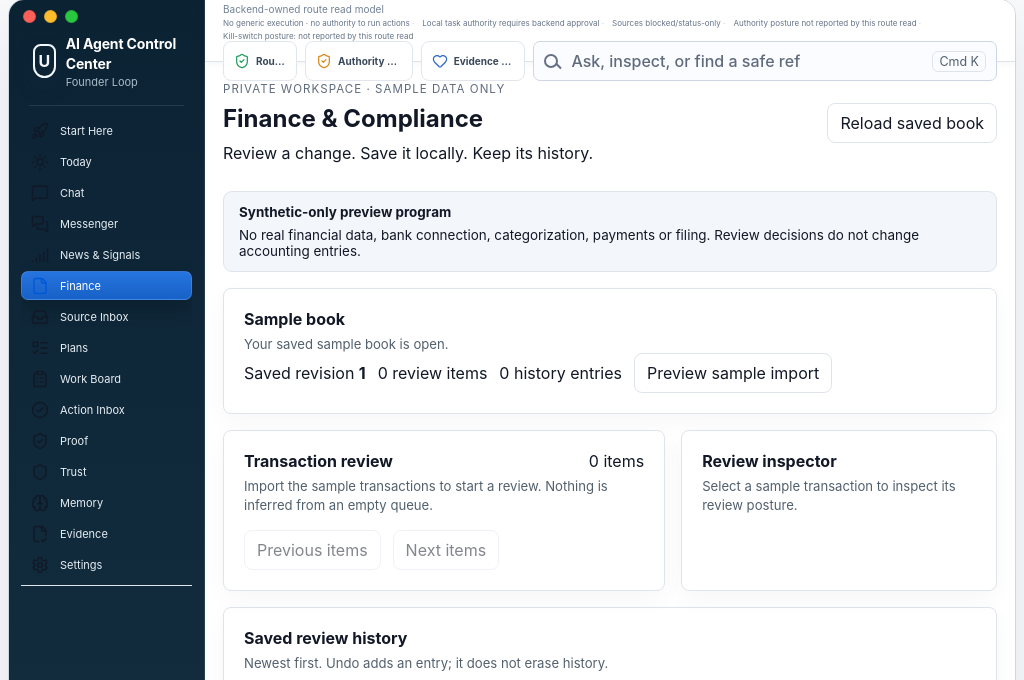
Finance workspace › allows an expired unsubmitted import_commit preview to be closed and prepared again
This screenshot has width=1024, height=680.
Click the button "Preview sample import".
click(733, 373)  # box [634,353,832,393]
(page scrolled)
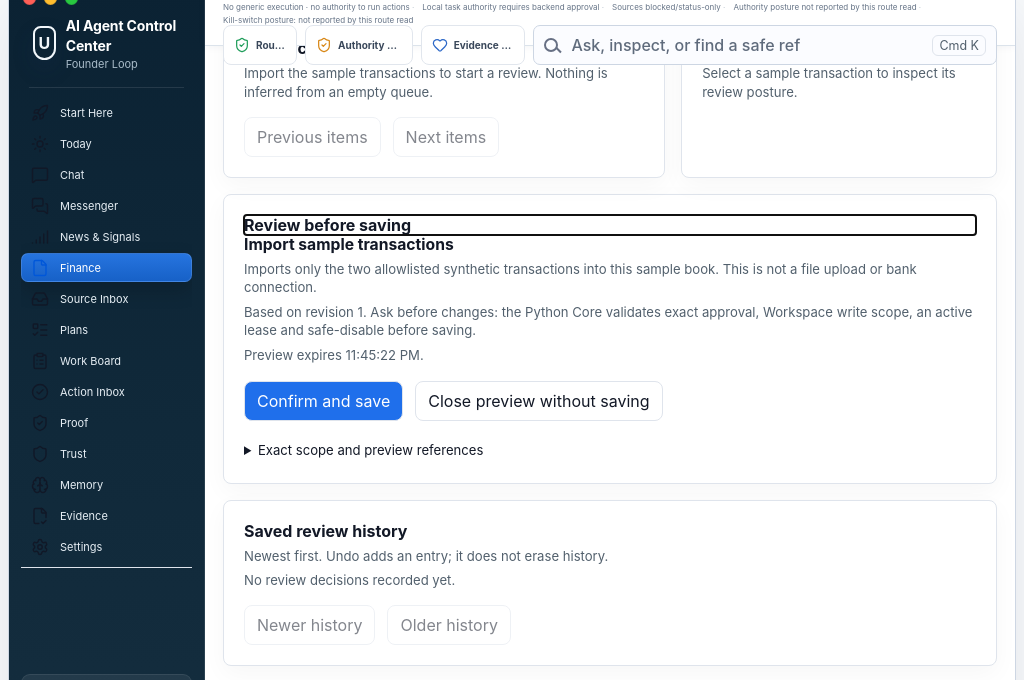
Check: the heading "Review before saving" is shown, box [244,214,411,234]
Click the button "Confirm and save".
click(324, 401)  # box [244,381,403,421]
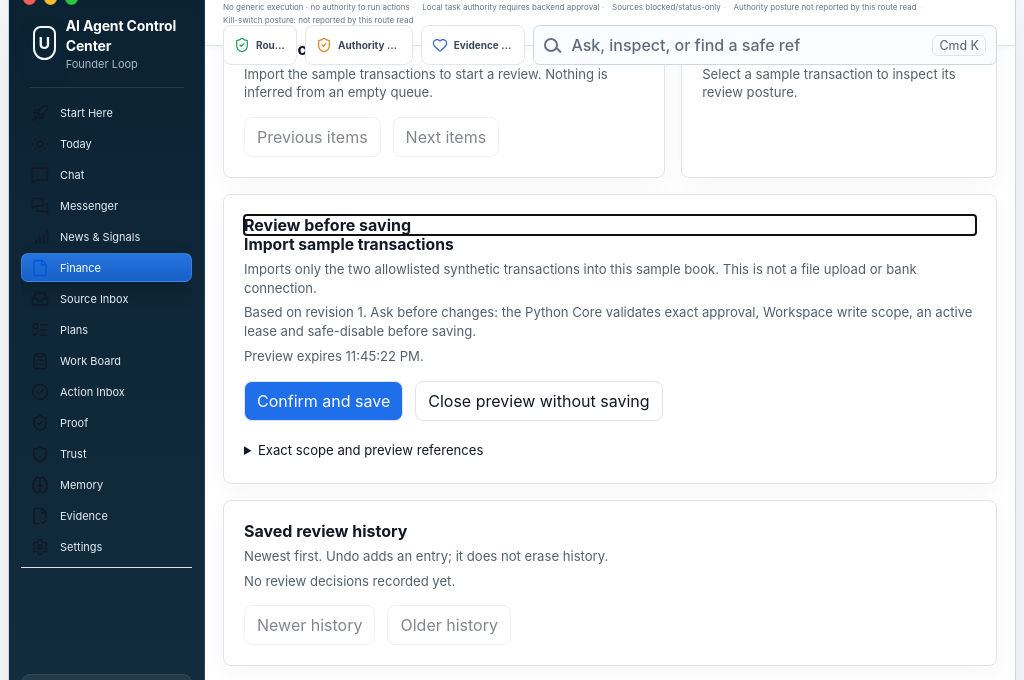
Check: the button "Close preview without saving" is enabled
Click the button "Close preview without saving".
click(539, 401)  # box [415,381,663,421]
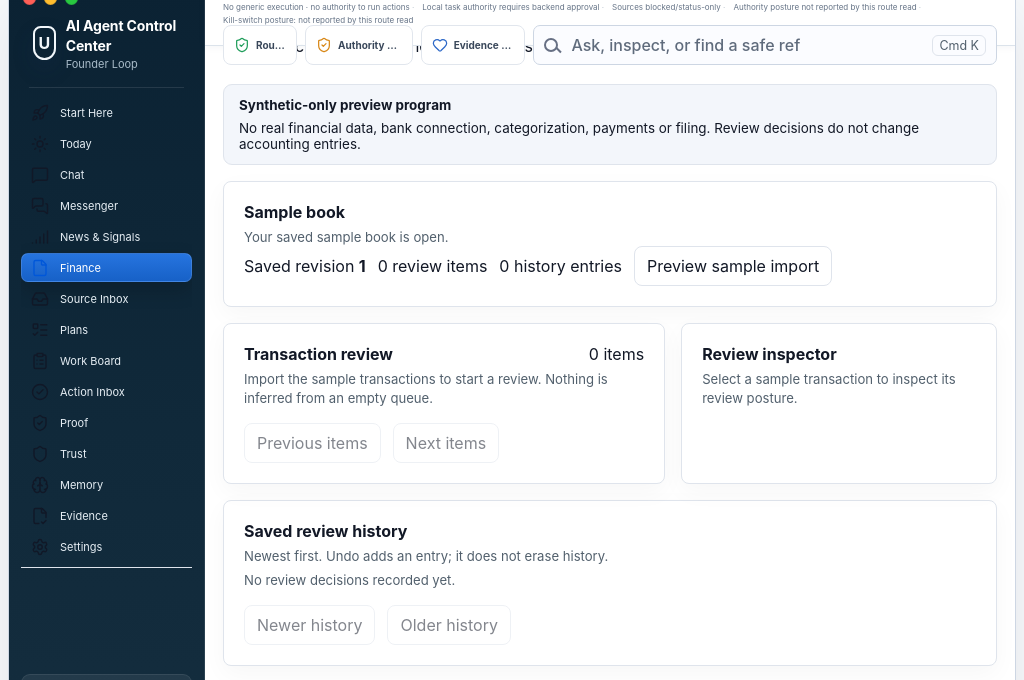
Click the button "Preview sample import".
click(733, 266)  # box [634,246,832,286]
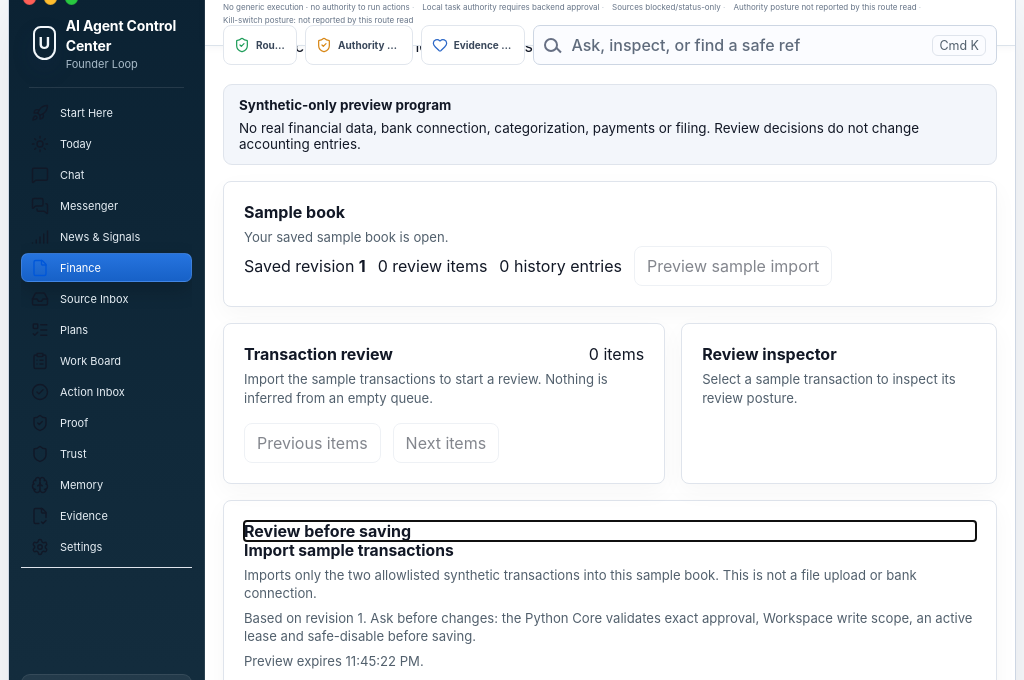
Check: the heading "Review before saving" is shown, box [244,520,411,540]
